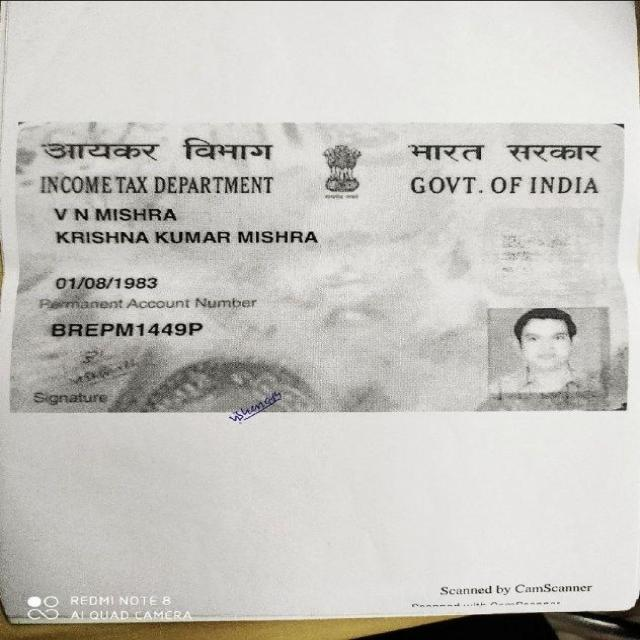pan_card: (16, 124, 633, 410)
